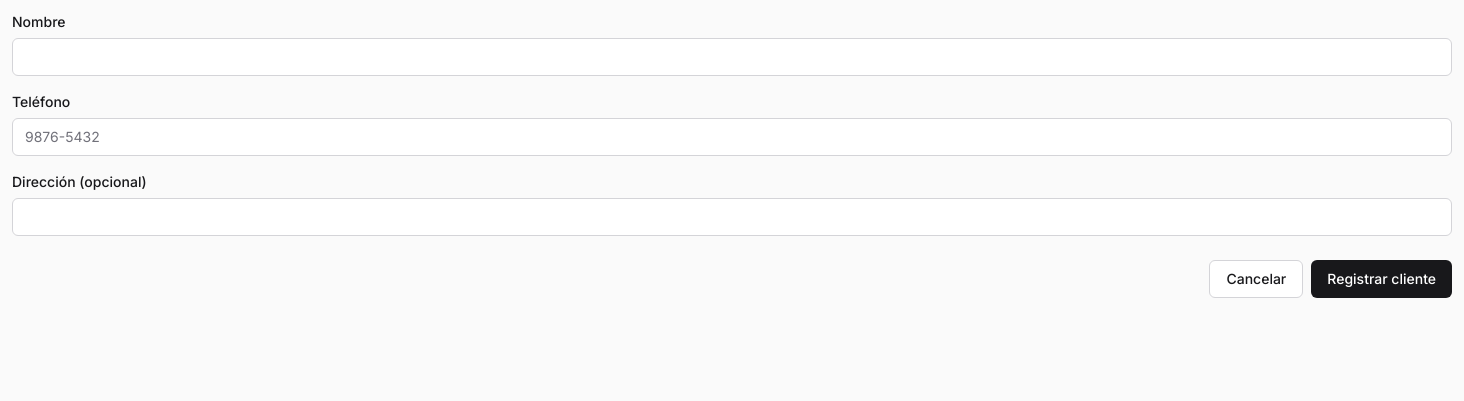
Test: formularios › ClienteForm muestra errores por campo y conserva lo escrito
The width and height of the screenshot is (1464, 401).
Step 1. Type "Ana" into the field labelled "Nombre" → (732, 57), box [12, 38, 1452, 76]
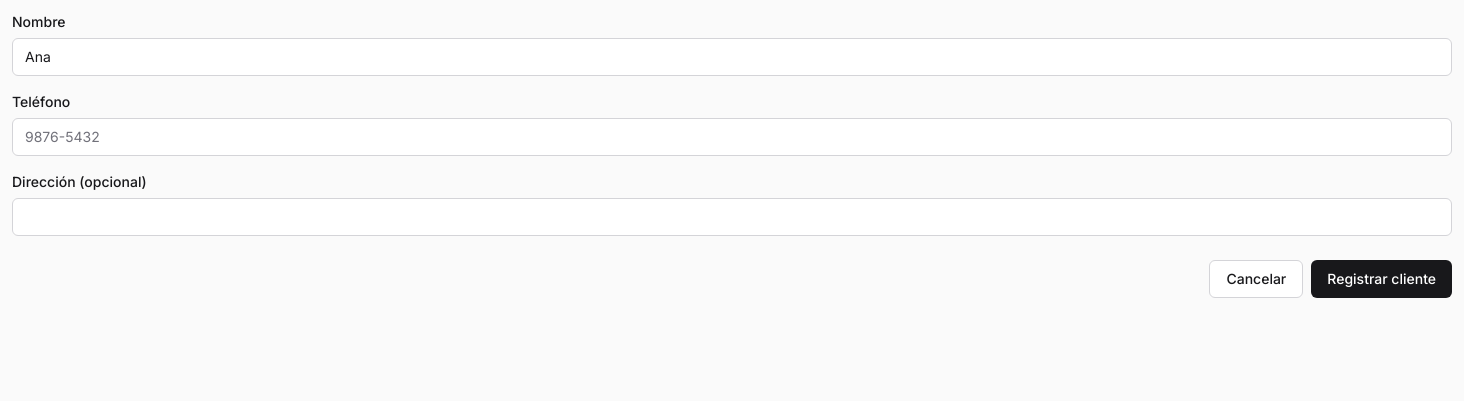
Step 2. Type "12" into the field labelled "Teléfono" → (732, 137), box [12, 118, 1452, 156]
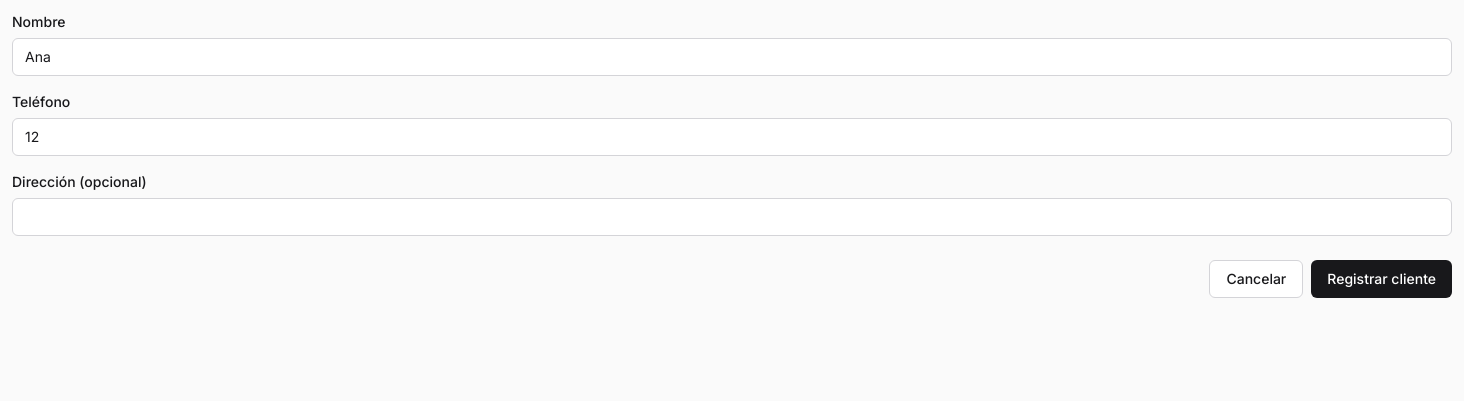
Step 3. Click the button "Registrar cliente" → click(1382, 279), box [1311, 260, 1452, 298]
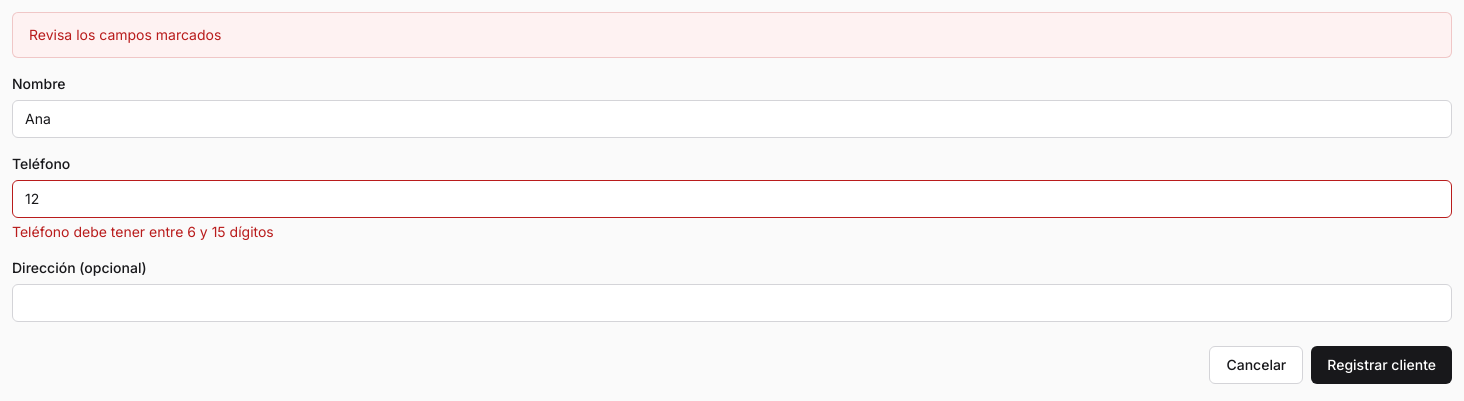
Check: the text "Teléfono debe tener entre 6 y 15 dígitos" is shown, box [12, 223, 274, 240]
Check: the text "Revisa los campos marcados" is shown, box [29, 25, 221, 45]
